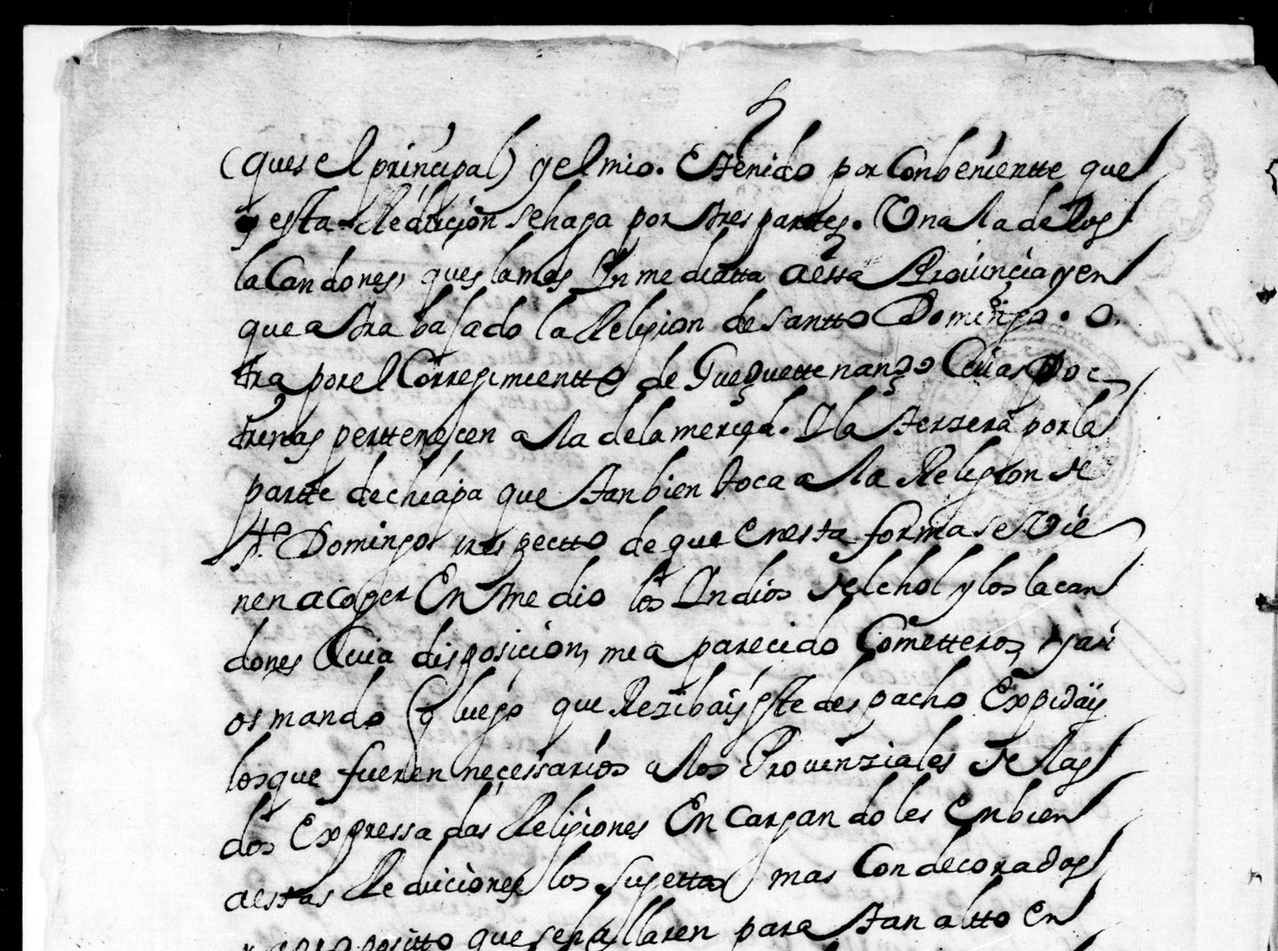lacandon: (234, 239, 398, 294)
